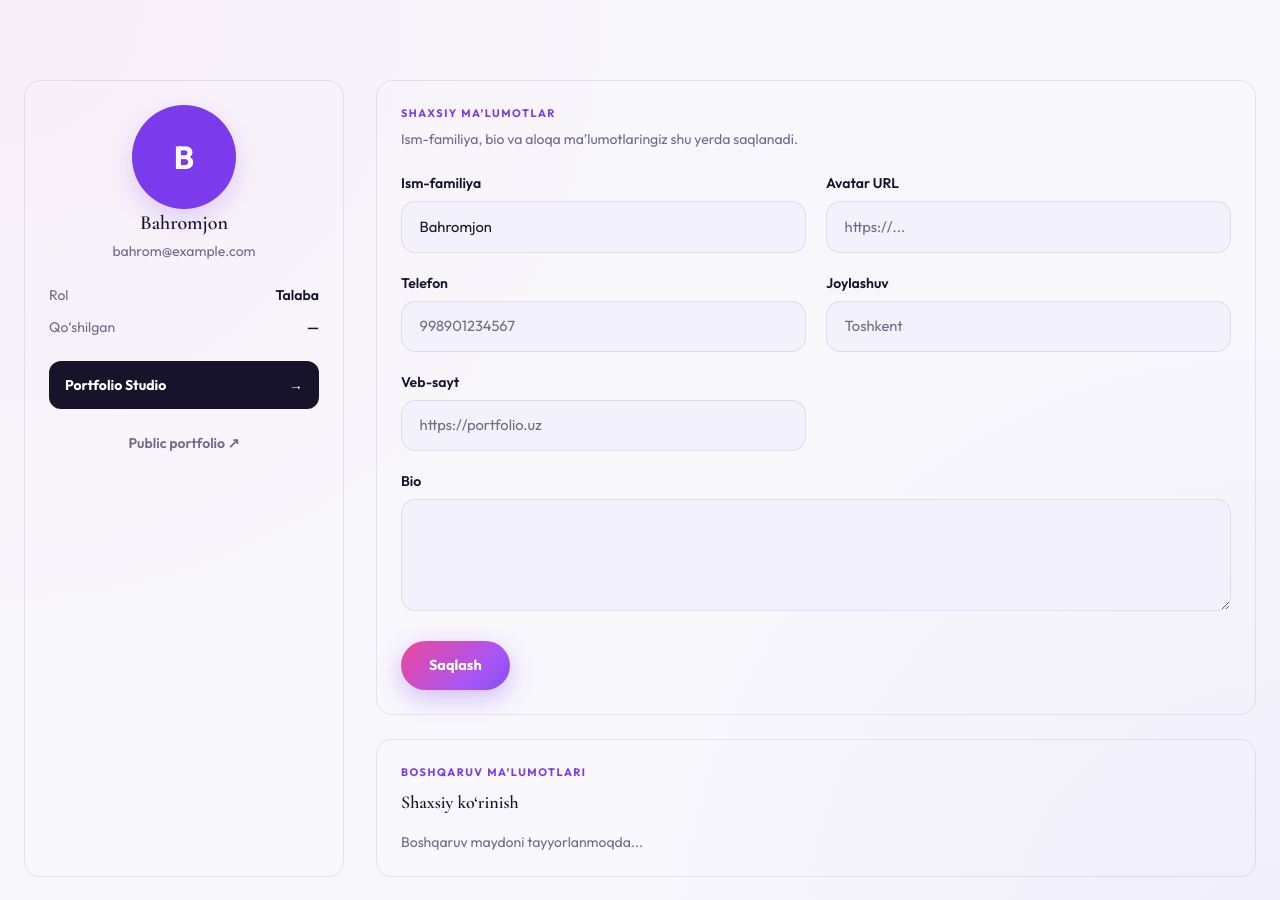
Scenario: ProfilePage › avatar bilan birga tozalangan qiymatlarni saqlaydi
The width and height of the screenshot is (1280, 900).
Replace the text in the field labelled "Ism-familiya" with "  Yangi Ism  " at point(604, 227), box [401,201,806,253]
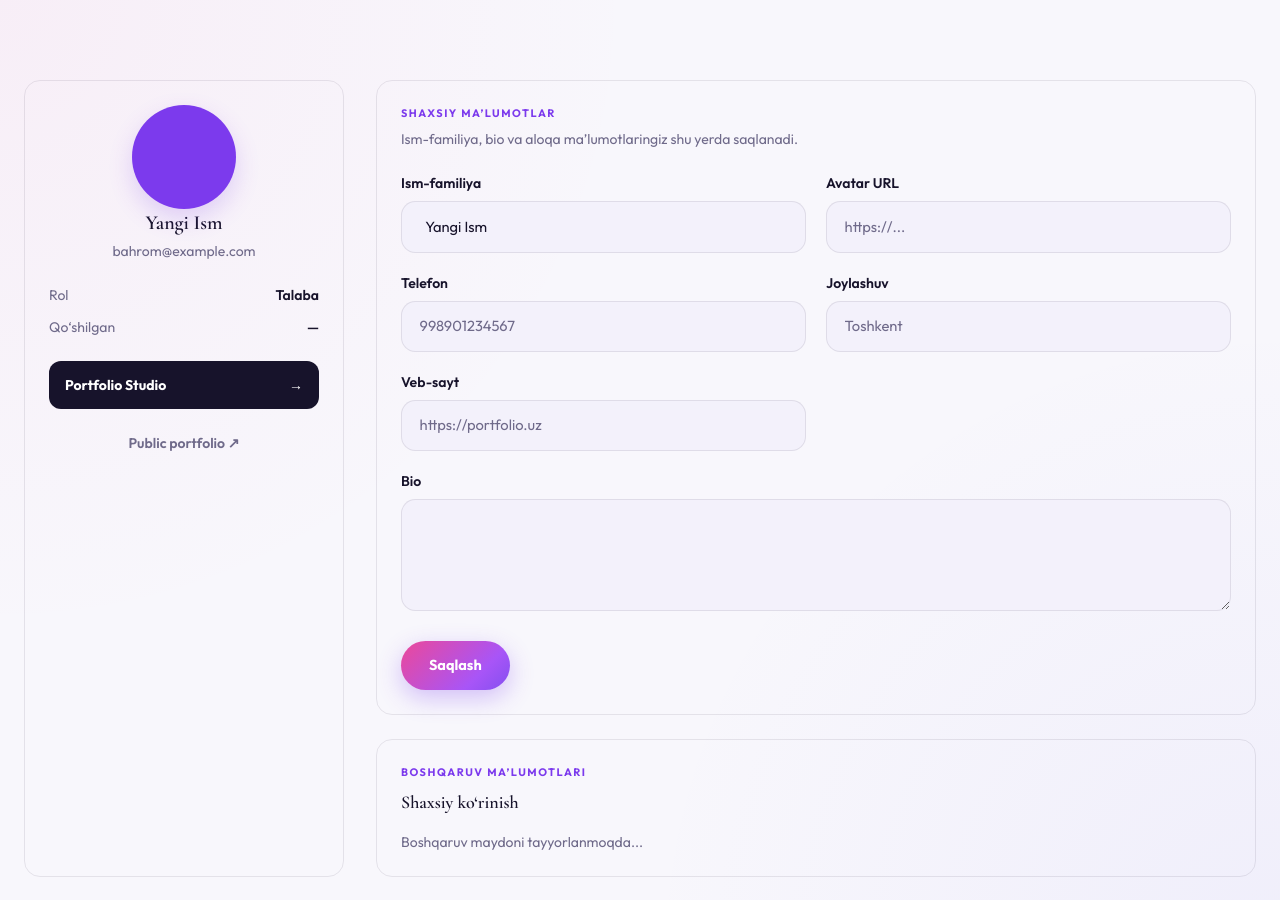
Type "https://cdn.designora.uz/avatars/1.png" into the field labelled "Avatar URL".
click(1028, 227); type("https://cdn.designora.uz/avatars/1.png")  # box [826,201,1231,253]
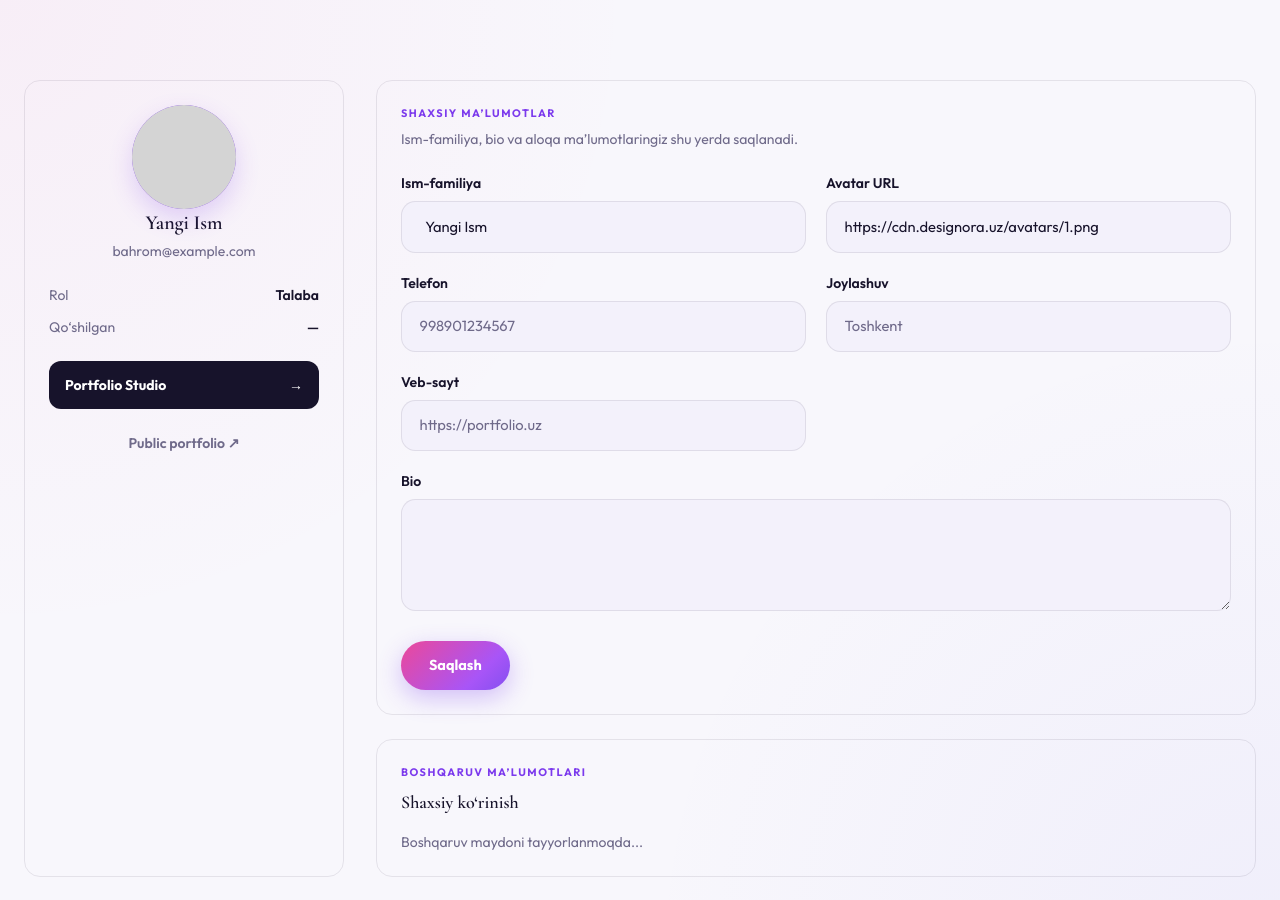
Click the button "Saqlash".
click(455, 666)  # box [401,641,510,690]
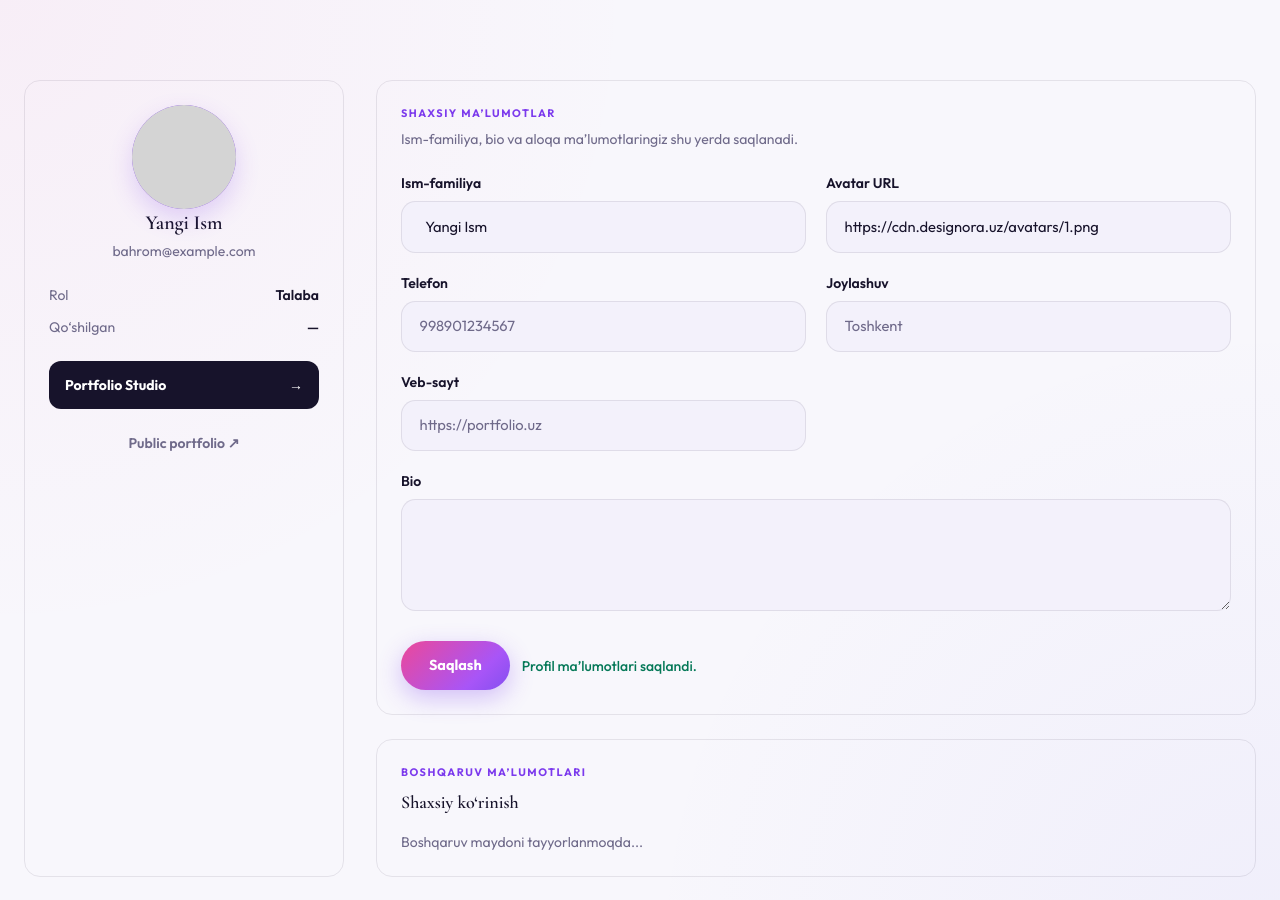
expect the text "Profil ma’lumotlari saqlandi." is shown: met, box [522,656,697,676]
